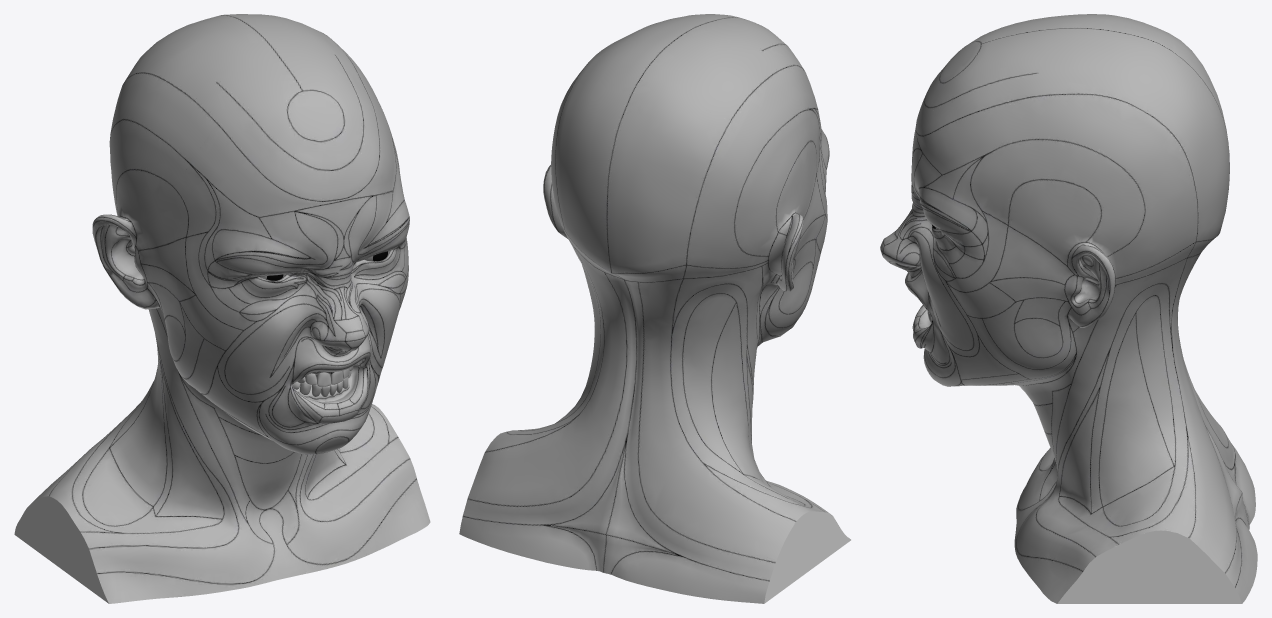
Rendered from 头部分面体_20260324202007_opt.glb.
The picture shows the model from 3 angles, left to right: view 1: azimuth 30°, elevation 25°; view 2: azimuth 150°, elevation 25°; view 3: azimuth 270°, elevation 25°; orthographic projection. The views are drawn at different scales.
Visible parts, largest first — view 1: AmyRageBlockOut_Low, AmyRageBlockOut_Low001, EyesAndTeeth001_1; view 2: AmyRageBlockOut_Low, AmyRageBlockOut_Low001; view 3: AmyRageBlockOut_Low, AmyRageBlockOut_Low001.
Boxes of the visible parts, <box> form: AmyRageBlockOut_Low: <box>31,14,430,603</box>; AmyRageBlockOut_Low001: <box>14,496,169,603</box>; EyesAndTeeth001_1: <box>260,251,389,396</box>; AmyRageBlockOut_Low: <box>459,14,849,603</box>; AmyRageBlockOut_Low001: <box>764,511,850,603</box>; AmyRageBlockOut_Low: <box>880,14,1257,603</box>; AmyRageBlockOut_Low001: <box>1057,530,1257,603</box>.
Bounding box in the file's own units: 0.2614 × 0.4 × 0.2737.
Materials: 4 (1 with a texture image).
